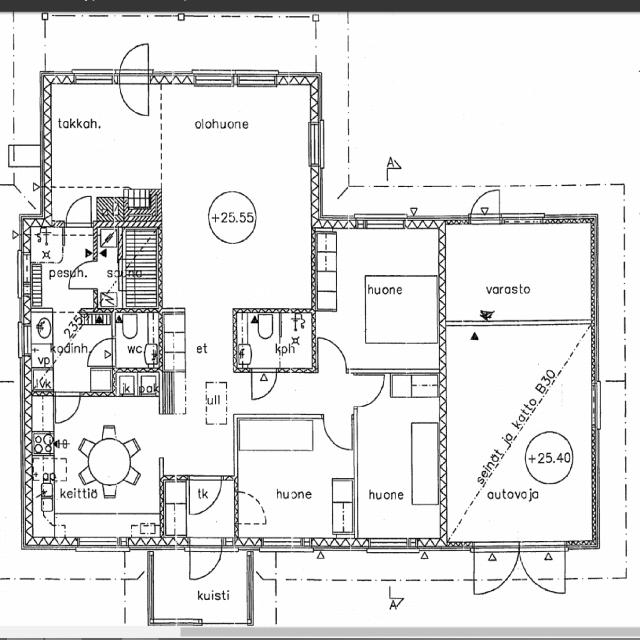door: (520, 543, 566, 593), (476, 543, 519, 592), (188, 538, 224, 582), (187, 476, 223, 517), (117, 75, 151, 118), (314, 333, 350, 373), (234, 486, 270, 526), (118, 40, 151, 80), (322, 411, 354, 451), (468, 186, 502, 223), (354, 370, 387, 408), (62, 191, 94, 230), (85, 333, 116, 368), (52, 389, 82, 425), (249, 366, 279, 402), (124, 555, 151, 584)
window: (306, 118, 327, 172), (70, 67, 116, 87), (193, 68, 234, 90), (234, 70, 278, 90), (361, 214, 405, 232), (260, 536, 305, 552), (75, 536, 119, 552), (590, 381, 604, 431), (366, 538, 409, 554), (16, 319, 28, 358), (152, 616, 181, 630)
zone: (316, 225, 442, 369), (441, 221, 595, 323), (353, 374, 442, 548), (237, 418, 356, 542), (42, 80, 157, 188), (39, 480, 161, 543), (27, 310, 114, 390), (24, 226, 99, 307), (120, 222, 160, 306), (114, 310, 161, 371), (162, 479, 189, 542), (15, 162, 42, 216), (114, 370, 160, 400), (12, 146, 40, 166)
